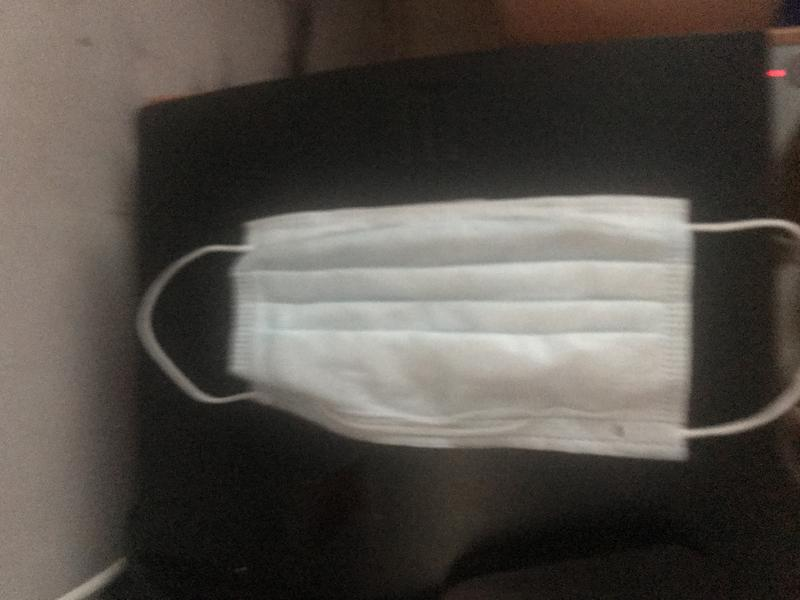medical_mask: (136, 198, 800, 459)
